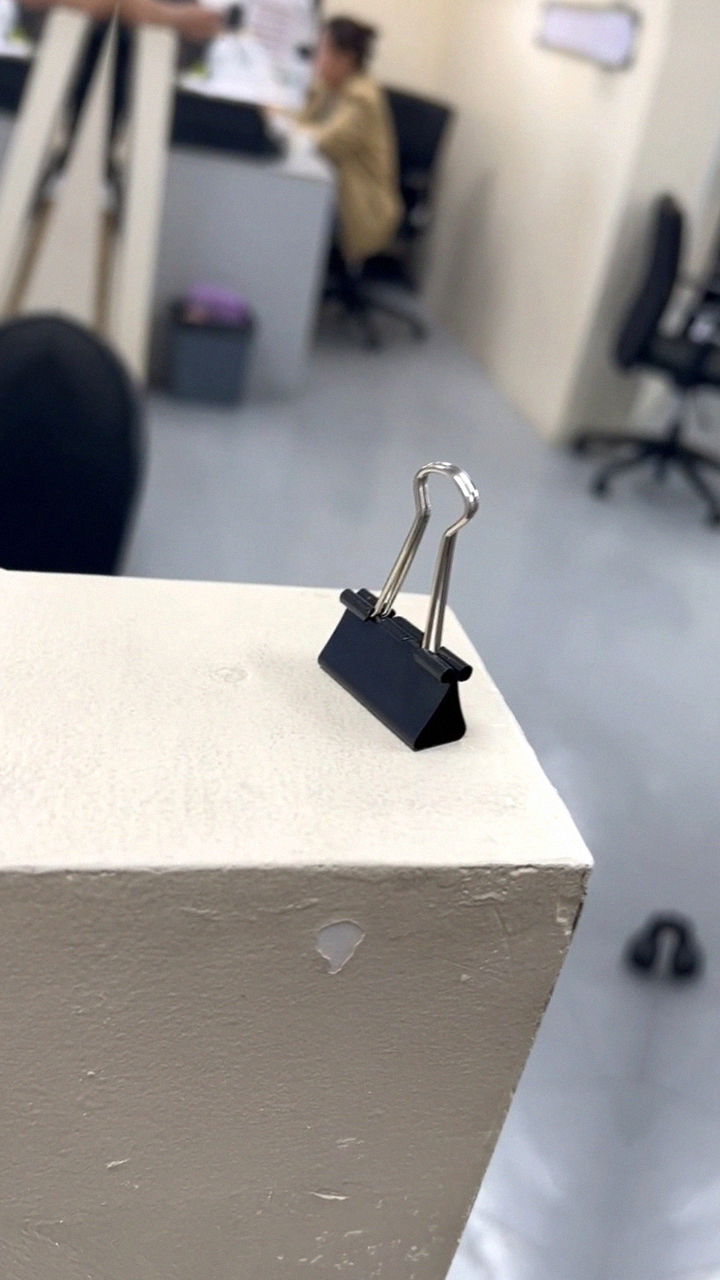kep_giay: (299, 441, 520, 765)
